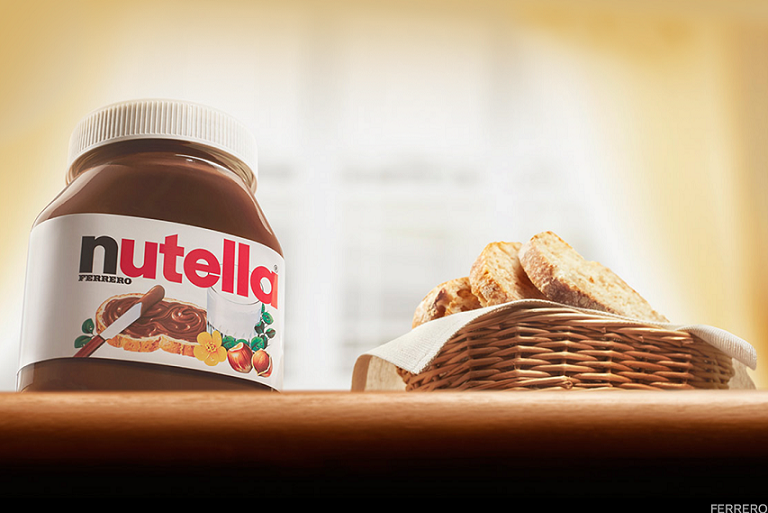nutella: (16, 99, 286, 392)
